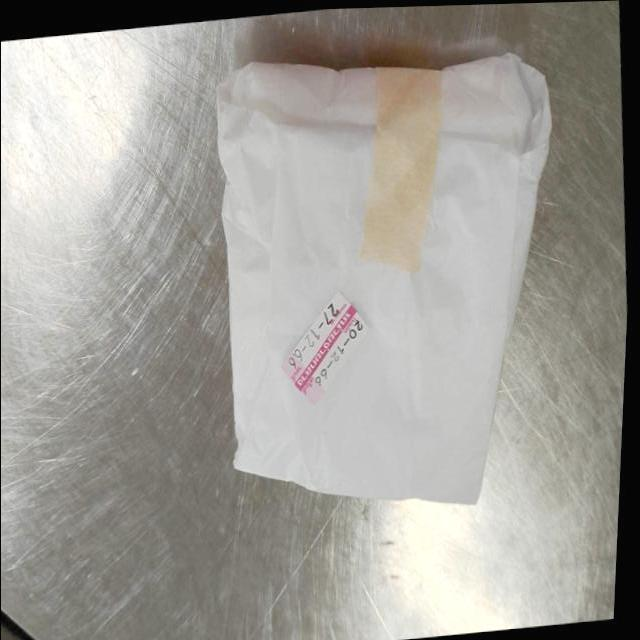General: (214, 51, 554, 507)
Sharps: (281, 291, 369, 404)
